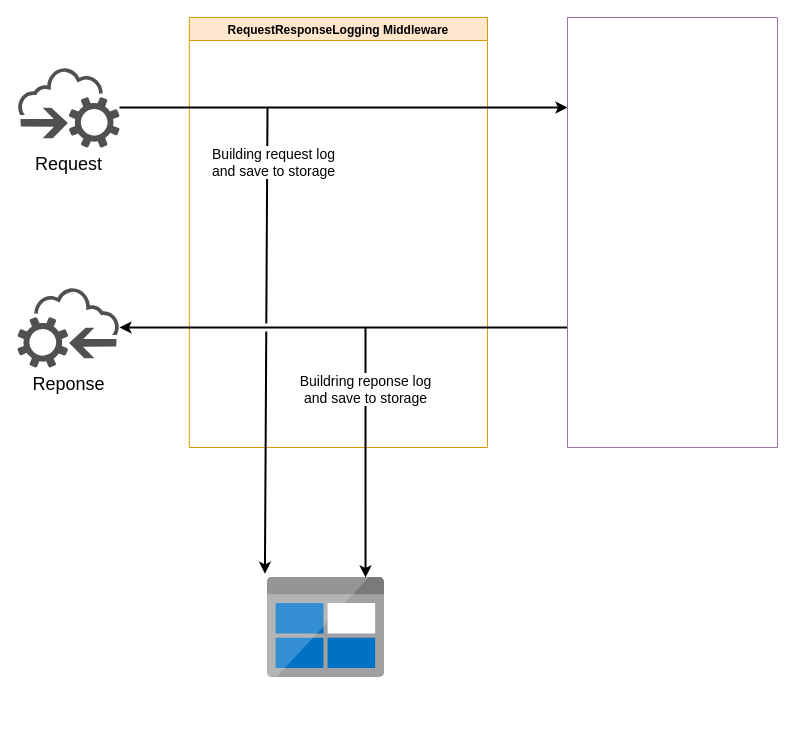
This 795x731 diagram has some shape labels left out. Each missing label, with the box of its shape:
Azure Storage with saved Logs: (267, 577, 384, 677)
Domain code: (566, 16, 778, 448)
